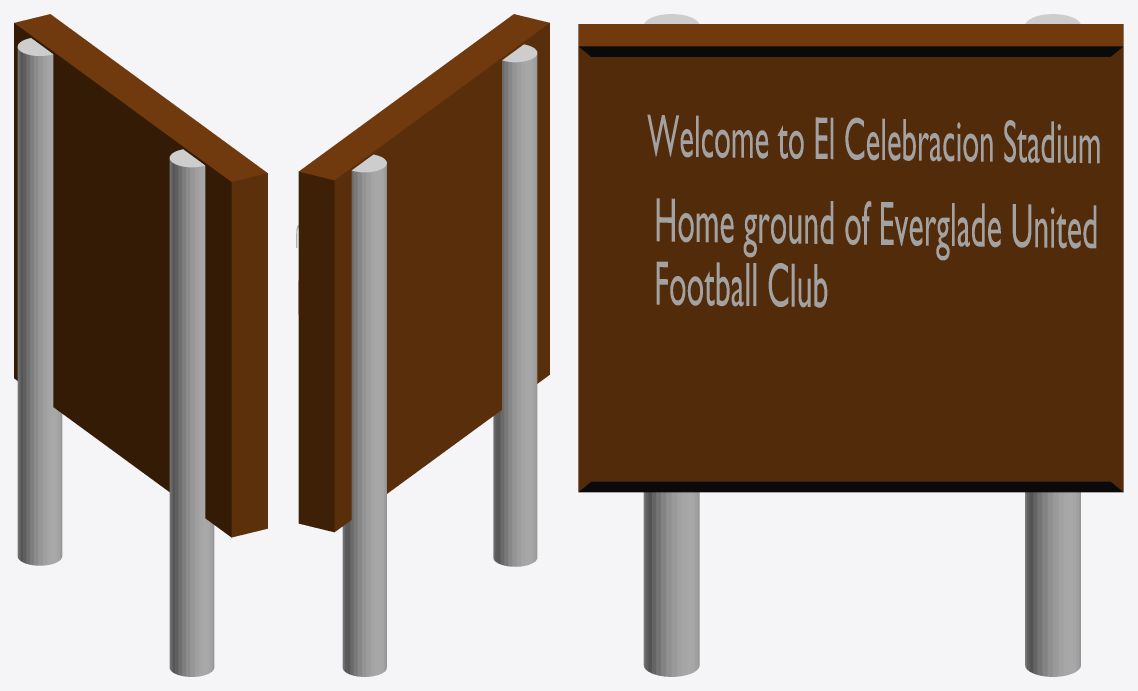
Rendered from UK_brown_sign_1.fbx.
3 views of the same model, side by side, from view 1: azimuth 30°, elevation 25°; view 2: azimuth 150°, elevation 25°; view 3: azimuth 270°, elevation 25° (orthographic). The views are drawn at different scales.
Parts seen in each view (by area): view 1: Cube.001, Cylinder, Cylinder.001; view 2: Cube.001, Cylinder, Cylinder.001; view 3: Cube.001, Cylinder, Cylinder.001, Text.001, Text.002.
Part boxes in pixels (x1,y1,x2,y2): Cube.001: [14, 14, 267, 537]; Cylinder: [169, 149, 214, 676]; Cylinder.001: [17, 38, 62, 565]; Cube.001: [298, 14, 549, 532]; Cylinder: [493, 44, 537, 566]; Cylinder.001: [342, 154, 386, 676]; Cube.001: [578, 24, 1123, 492]; Cylinder: [643, 14, 699, 676]; Cylinder.001: [1025, 14, 1080, 676]; Text.001: [656, 198, 1096, 307]; Text.002: [647, 114, 1099, 163].
Bounding box in the file's own units: 7.25 × 50.59 × 38.93.
